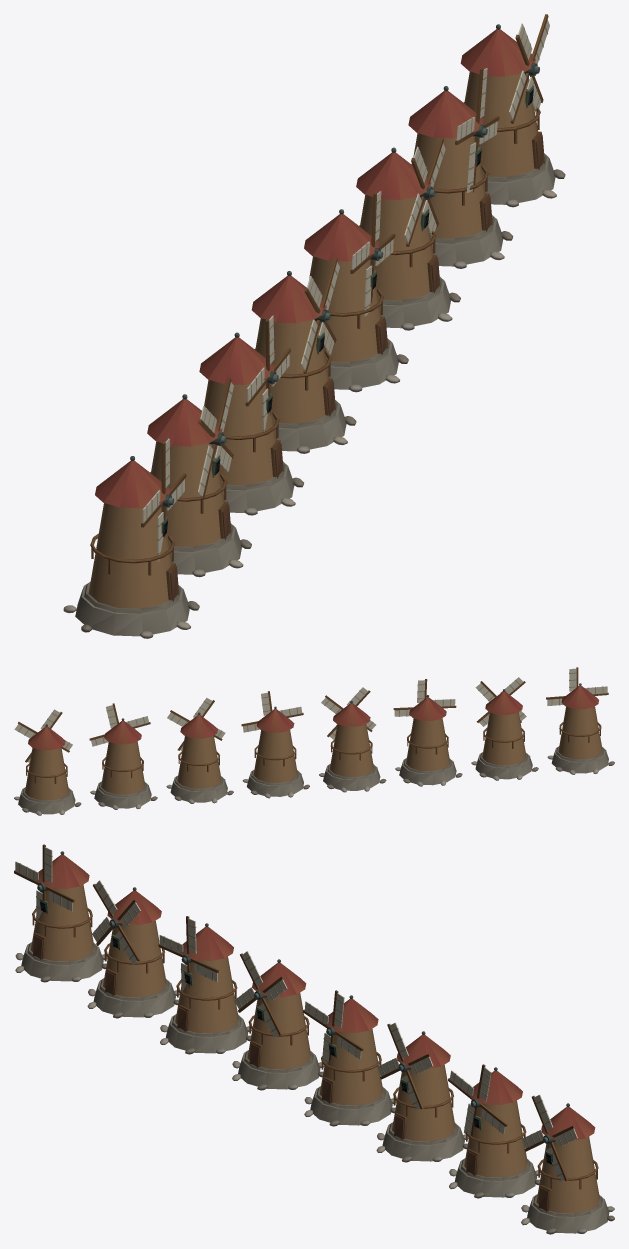
Rendered from audit-hf-windmill-blades-spin-front.glb.
The picture shows the model from 3 angles, top to bottom: view 1: azimuth 30°, elevation 25°; view 2: azimuth 150°, elevation 25°; view 3: azimuth 270°, elevation 25°; orthographic projection. The views are drawn at different scales.
Parts seen in each view (by area): view 1: windmillHardware (×8), windmillTower (×8), windmillBlades (×8); view 2: windmillTower (×8), windmillHardware (×8), windmillBlades (×8); view 3: windmillHardware (×8), windmillTower (×8), windmillBlades (×8).
Boxes of the visible parts, x1,y1,x2,y2 form: windmillHardware (×8): (63,24,565,638); windmillTower (×8): (88,71,538,608); windmillBlades (×8): (141,14,549,561); windmillTower (×8): (25,706,602,800); windmillHardware (×8): (14,683,614,815); windmillBlades (×8): (14,667,608,762); windmillHardware (×8): (15,851,614,1234); windmillTower (×8): (30,884,599,1213); windmillBlades (×8): (14,844,577,1182).
Bounding box in the file's own units: 25.08 × 5.02 × 21.72.
